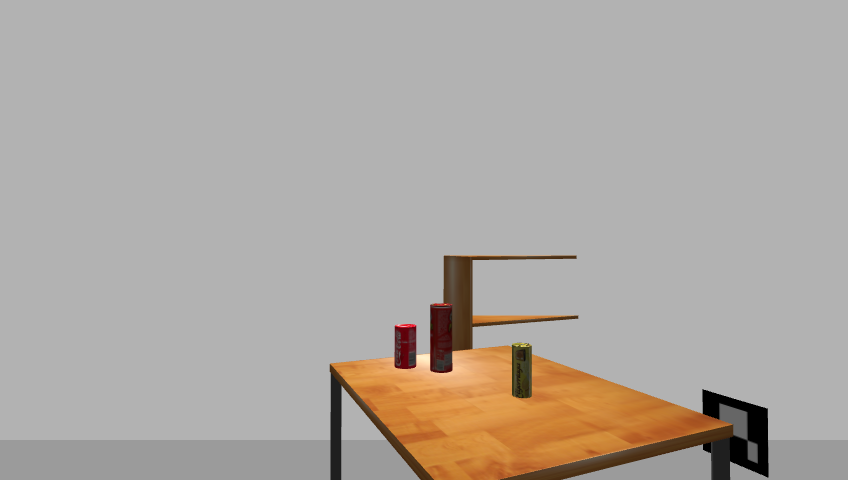aruco marker: (697, 388, 774, 479)
biscuits pack: (510, 342, 534, 400)
bookshelf: (439, 252, 584, 414)
coke can: (393, 324, 419, 370)
dinner table: (321, 346, 739, 480)
pringles can: (428, 302, 454, 375)
